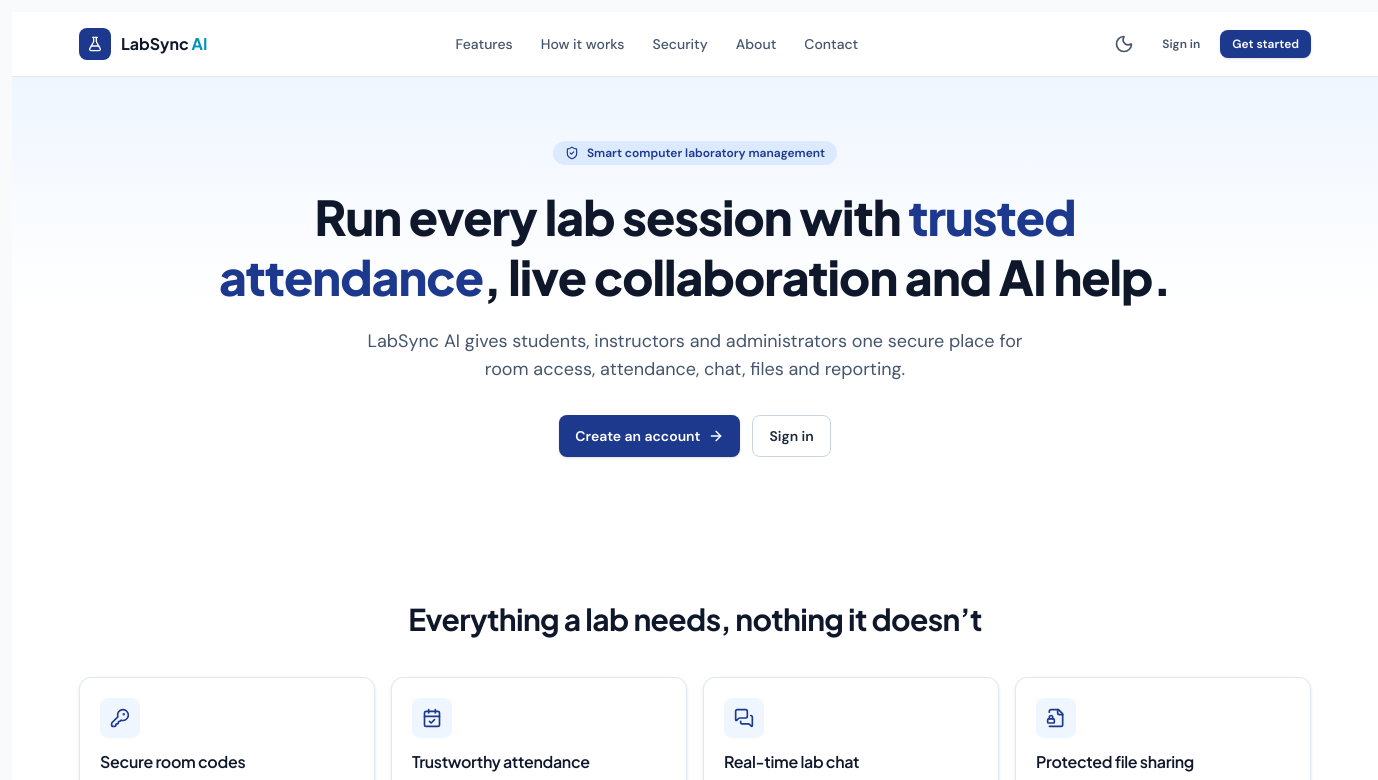
Test: LabSync UI › signs in and renders the role-specific student dashboard with navigation
Click the 1st button "Sign in" at [1181, 44], box [1150,30,1212,58]
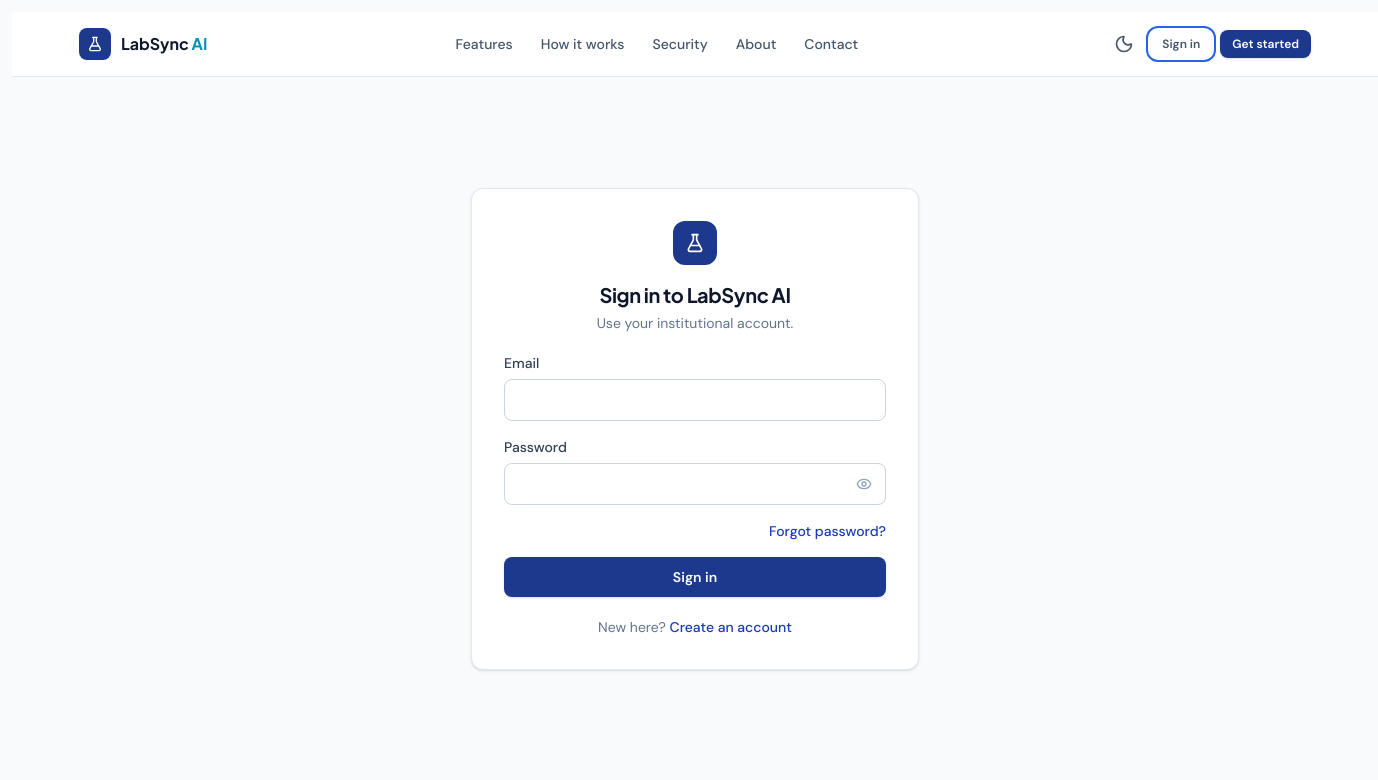
Type "asha@x.edu" into the field labelled "Email" at [695, 400], box [504,379,886,421]
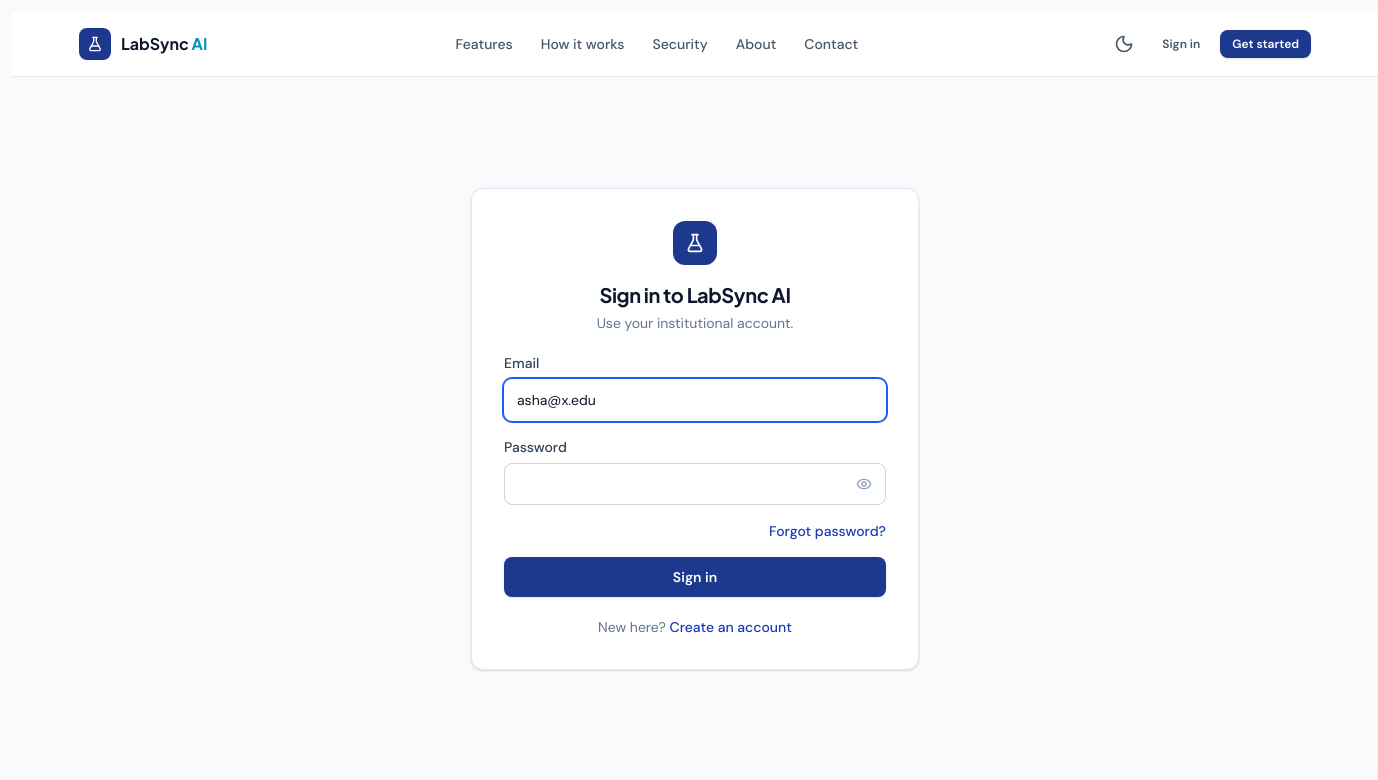
Type "Right-password-1" into the password field labelled "Password" at [695, 484], box [504,463,886,505]
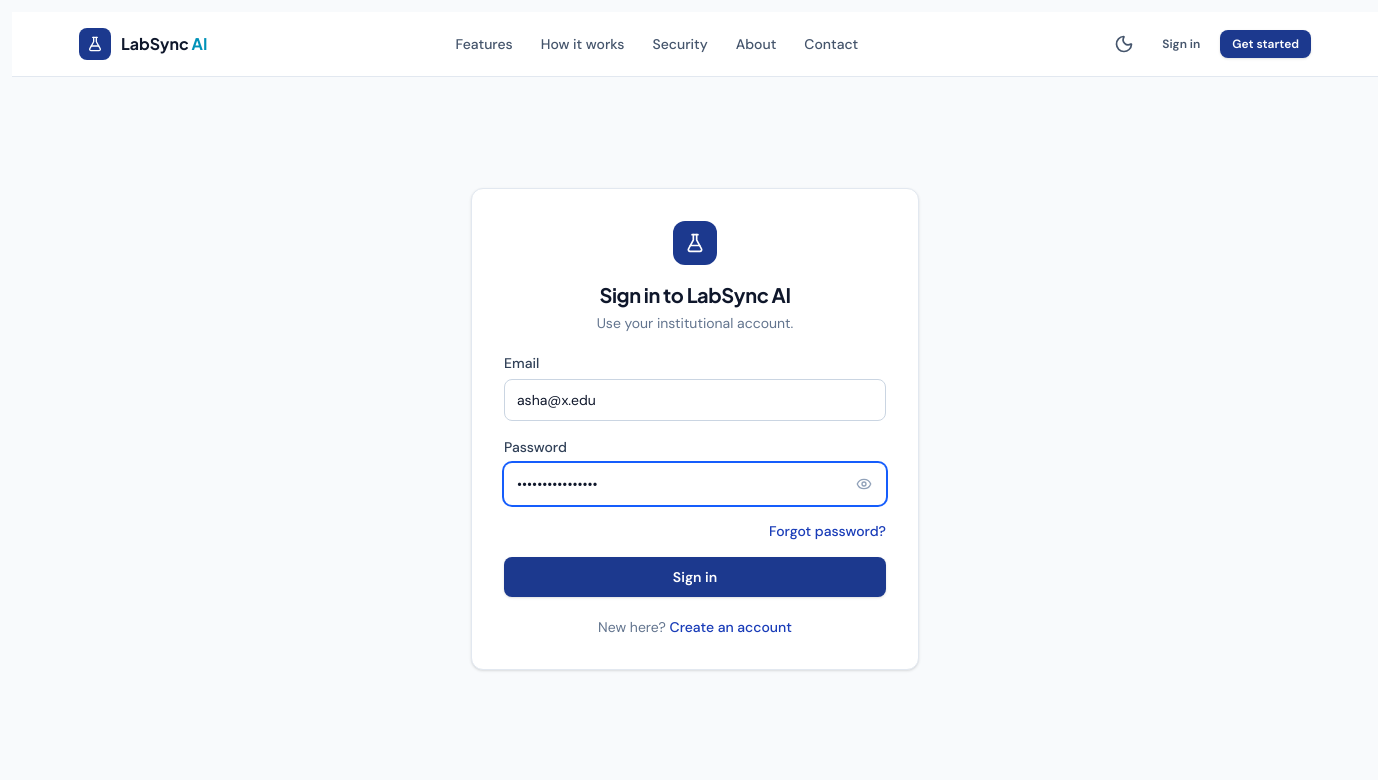
Click the button "Sign in" below "Email" at [695, 577], box [504,557,886,597]
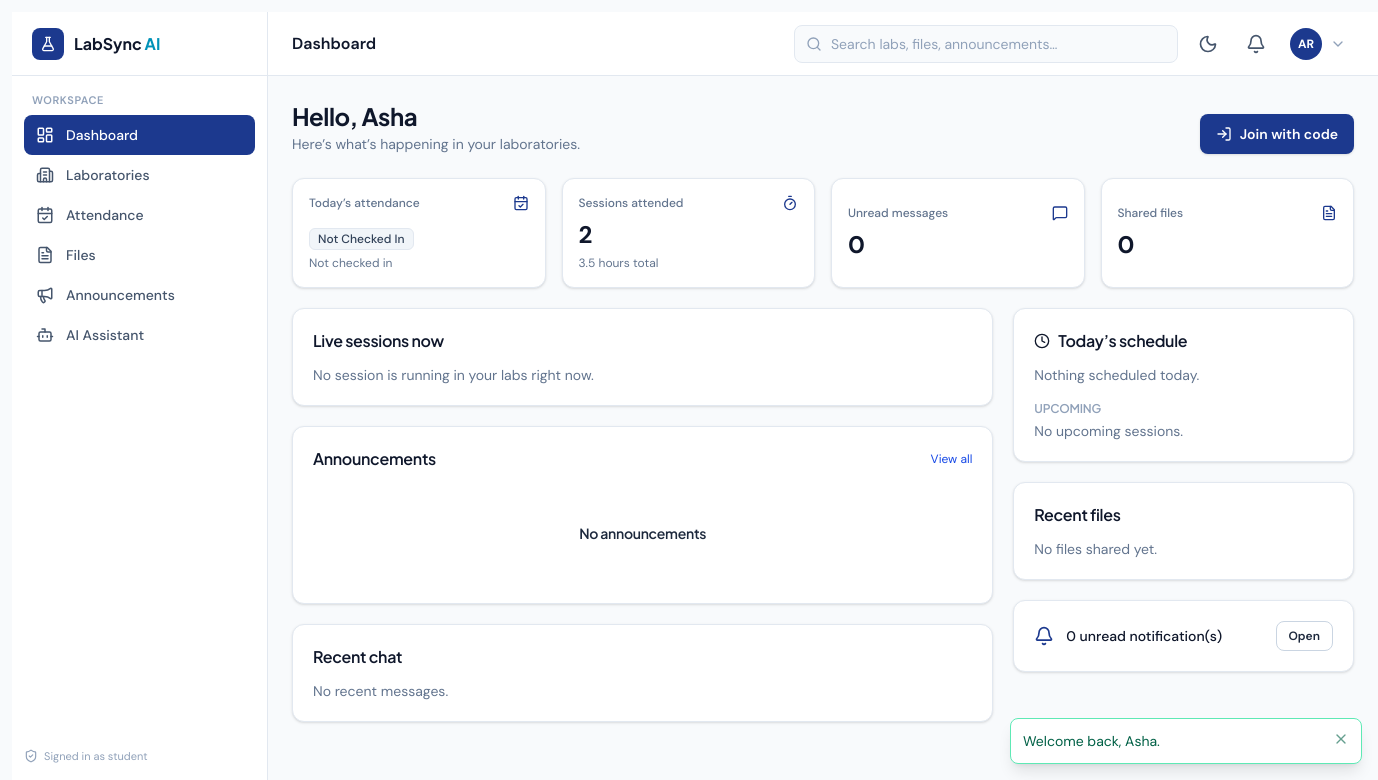
Check: the heading "Hello, Asha" is shown, box [292,101,417,131]
Check: the text "Sessions attended" is shown, box [578,195,684,211]
